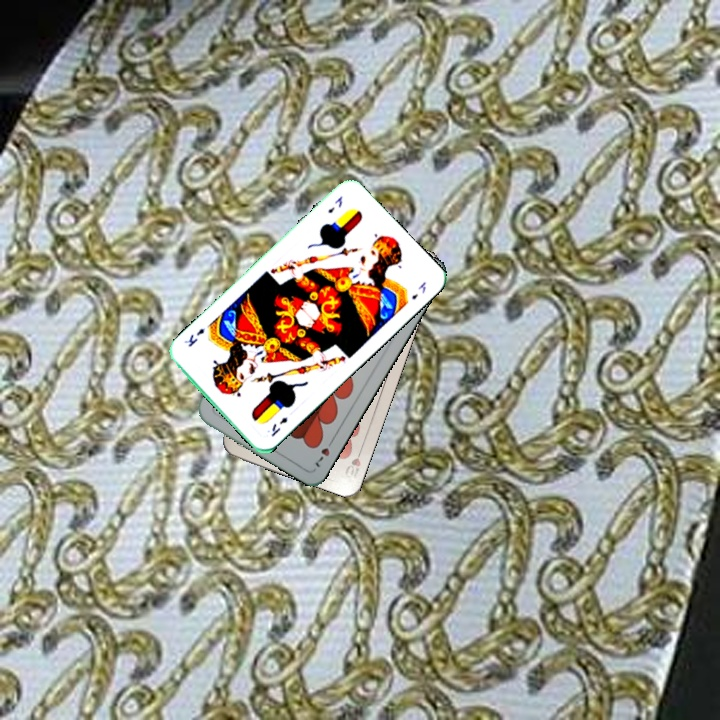EK: (267, 412, 290, 439), (324, 192, 345, 216)
H10: (340, 443, 365, 484)
H7: (310, 434, 337, 470)
